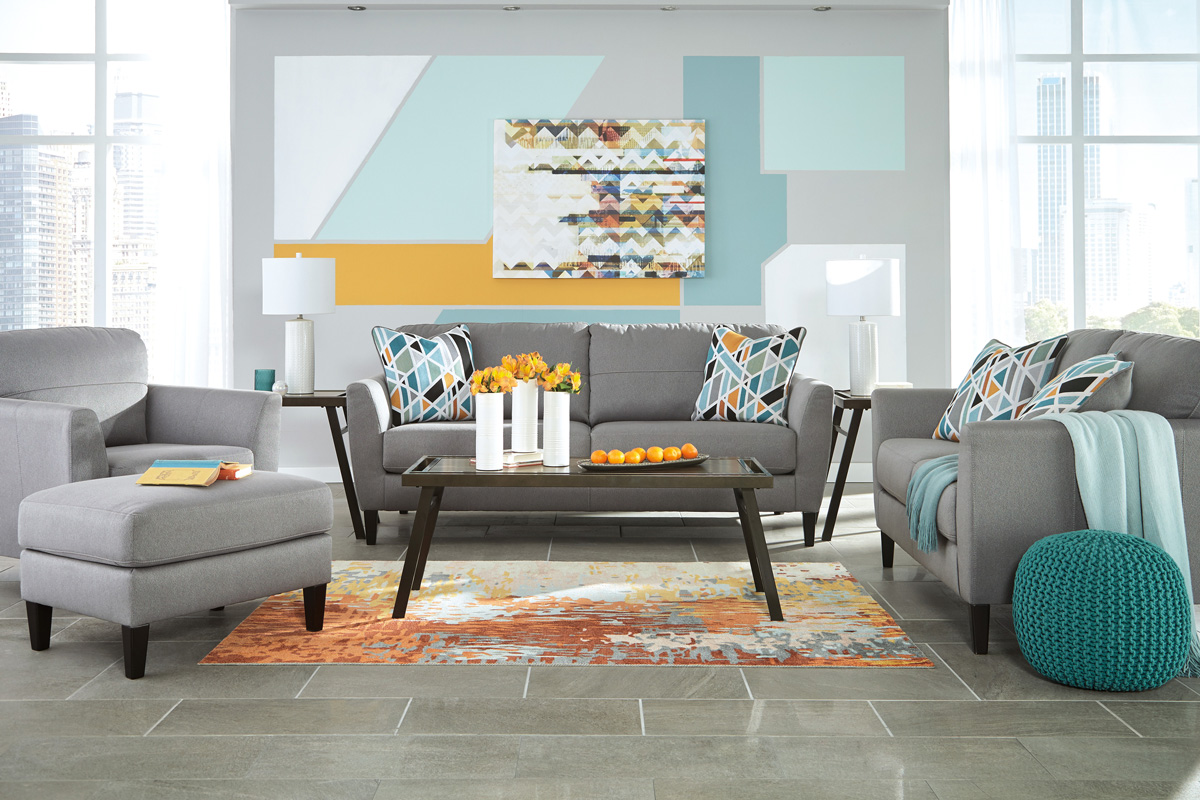biru: (1071, 418, 1179, 527)
hijau: (1023, 538, 1186, 688), (253, 368, 275, 391)
putih: (258, 258, 336, 314), (823, 258, 901, 314), (283, 317, 317, 393), (471, 393, 504, 468), (542, 394, 571, 466), (512, 383, 537, 451)
